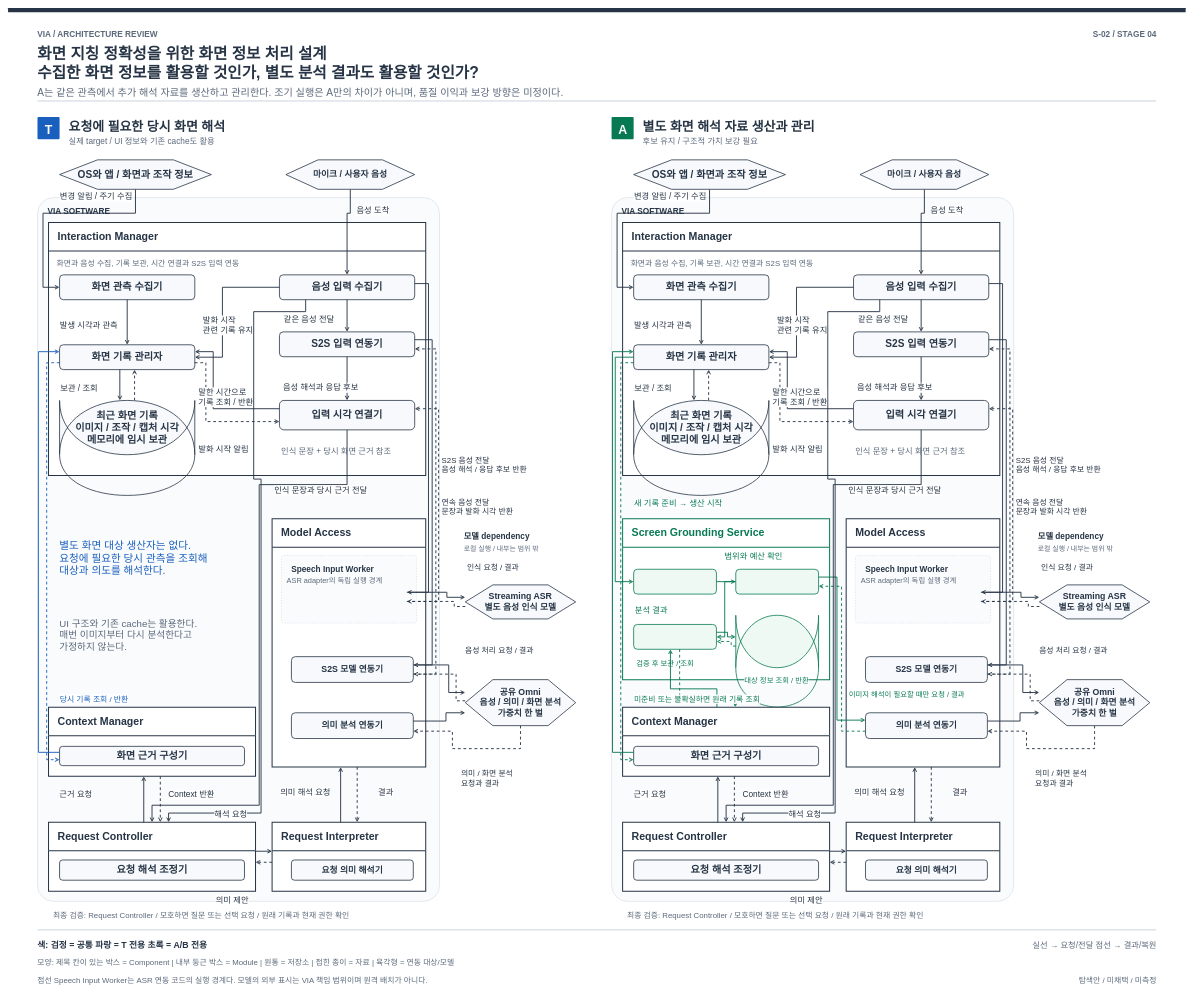
This 1193x995 diagram has some shape labels left out. Each missing label, with the centre of its shape:
"대상 기록 관리자" belongs at point 675,636.
"분석 작업 관리자" belongs at point 675,581.
"화면 대상 기록 항목 / 위치 / 관계 시각 / 원본 참조 메모리 임시 보관" belongs at point 777,641.
"화면 대상 분석기" belongs at point 777,581.
